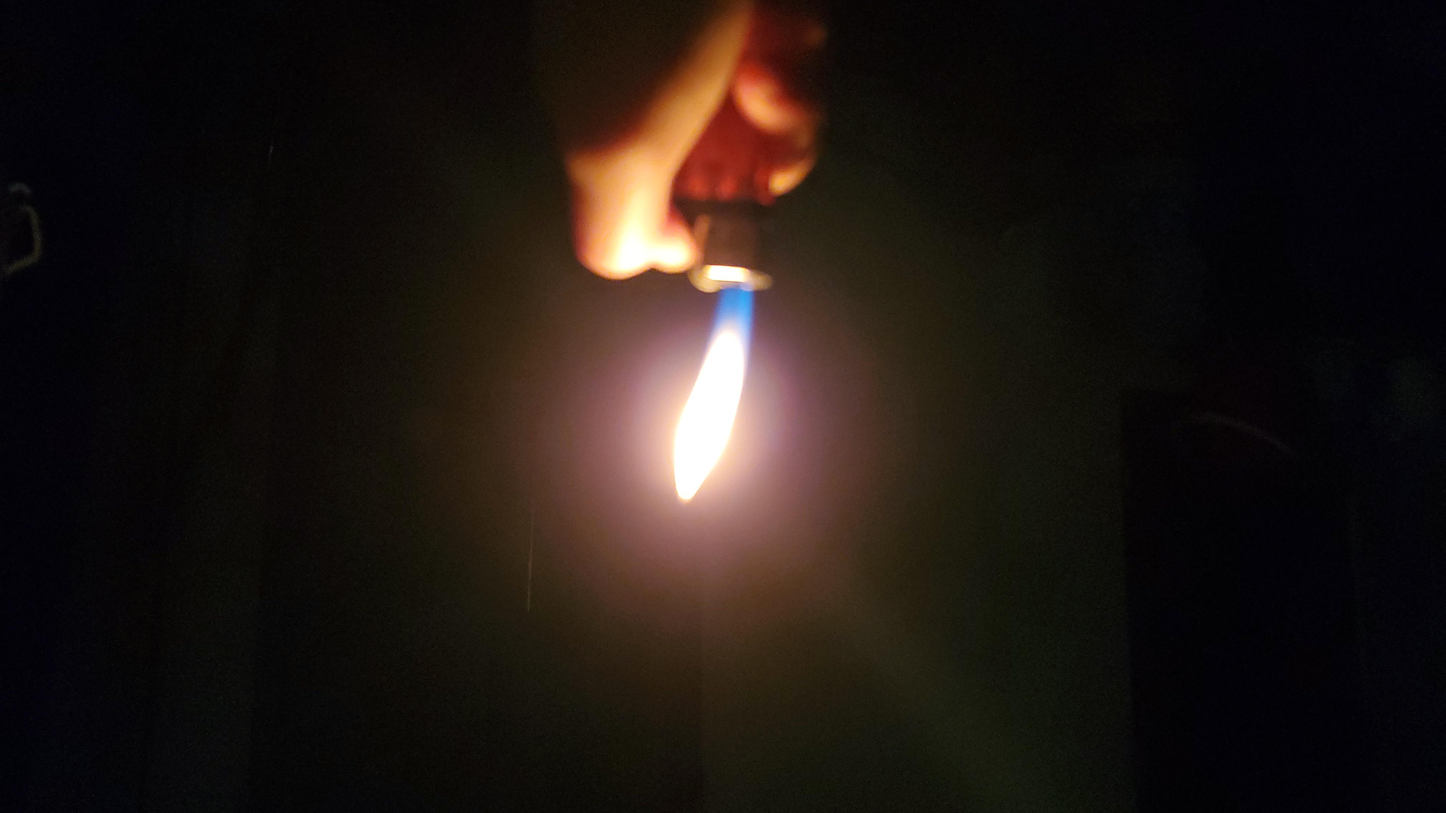fire: (679, 310, 805, 507)
